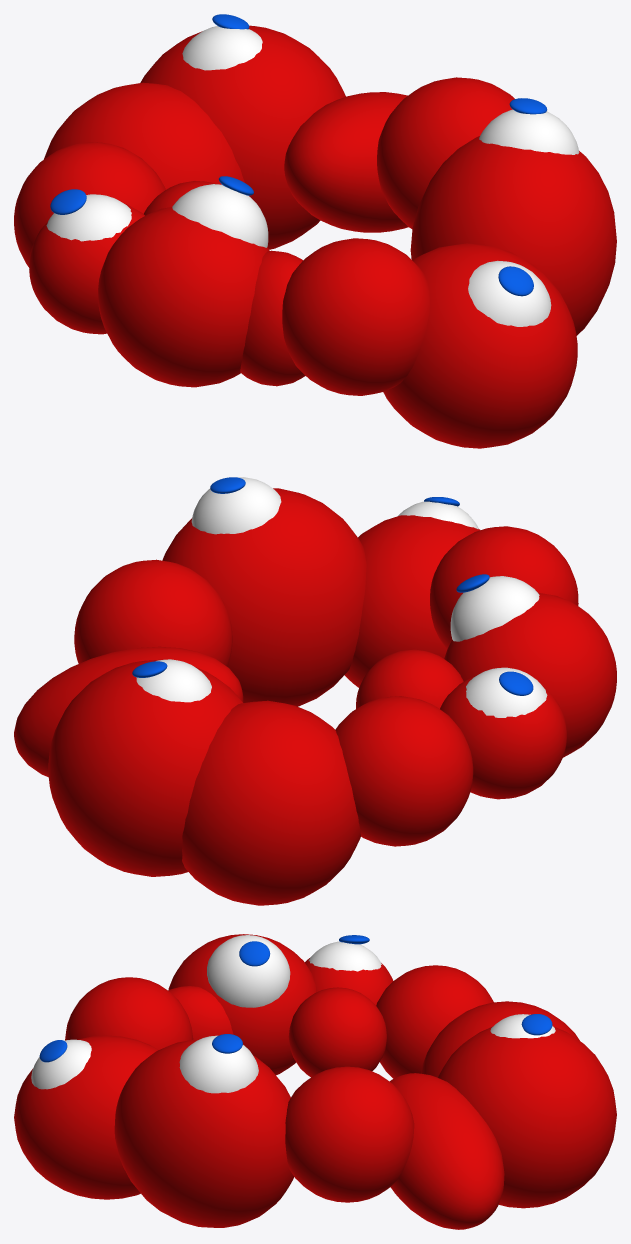
Rendered from myakumyaku_wakka.fbx.
The picture shows the model from 3 angles, top to bottom: view 1: azimuth 30°, elevation 25°; view 2: azimuth 150°, elevation 25°; view 3: azimuth 270°, elevation 25°; orthographic projection. The views are drawn at different scales.
Parts seen in each view (by area): view 1: 球.011, 球.013, 球.014, 球.004, 球.006, 球.009, 球.012, 球.010, 球.007, 球.002, 球.003, 球.005 (+7 smaller); view 2: 球.012, 球.013, 球.006, 球.007, 球.014, 球.010, 球.011, 球.002, 球.004, 球.009, 球.001, 球.005 (+5 smaller); view 3: 球.013, 球.006, 球.010, 球.011, 球.009, 球.007, 球.001, 球.004, 球.014, 球.005, 球.020, 球.012 (+9 smaller).
Part boxes in pixels (bbox=[...]): 球.011: bbox=[383, 243, 577, 448]; 球.013: bbox=[410, 136, 616, 335]; 球.014: bbox=[98, 207, 269, 387]; 球.004: bbox=[282, 238, 429, 395]; 球.006: bbox=[140, 25, 345, 249]; 球.009: bbox=[284, 92, 408, 232]; 球.012: bbox=[44, 82, 244, 189]; 球.010: bbox=[377, 77, 514, 228]; 球.007: bbox=[14, 142, 165, 267]; 球.002: bbox=[29, 203, 144, 334]; 球.003: bbox=[240, 250, 305, 386]; 球.005: bbox=[172, 184, 268, 247]; 球.012: bbox=[182, 700, 360, 905]; 球.013: bbox=[162, 488, 366, 706]; 球.006: bbox=[48, 659, 242, 876]; 球.007: bbox=[335, 696, 473, 846]; 球.014: bbox=[444, 592, 616, 757]; 球.010: bbox=[74, 559, 232, 666]; 球.011: bbox=[344, 515, 480, 687]; 球.002: bbox=[440, 675, 566, 799]; 球.004: bbox=[430, 526, 578, 648]; 球.009: bbox=[14, 646, 243, 776]; 球.001: bbox=[356, 649, 463, 708]; 球.005: bbox=[450, 576, 539, 641]; 球.013: bbox=[114, 1039, 293, 1227]; 球.006: bbox=[438, 1026, 616, 1208]; 球.010: bbox=[285, 1066, 414, 1202]; 球.011: bbox=[14, 1035, 158, 1199]; 球.009: bbox=[390, 1073, 504, 1229]; 球.007: bbox=[376, 965, 493, 1078]; 球.001: bbox=[288, 987, 386, 1077]; 球.004: bbox=[65, 977, 193, 1049]; 球.014: bbox=[168, 934, 316, 1075]; 球.005: bbox=[207, 935, 290, 1007]; 球.020: bbox=[179, 1035, 258, 1093]; 球.012: bbox=[421, 1001, 579, 1077].
Bounding box in the file's own units: 264 × 133 × 340.
